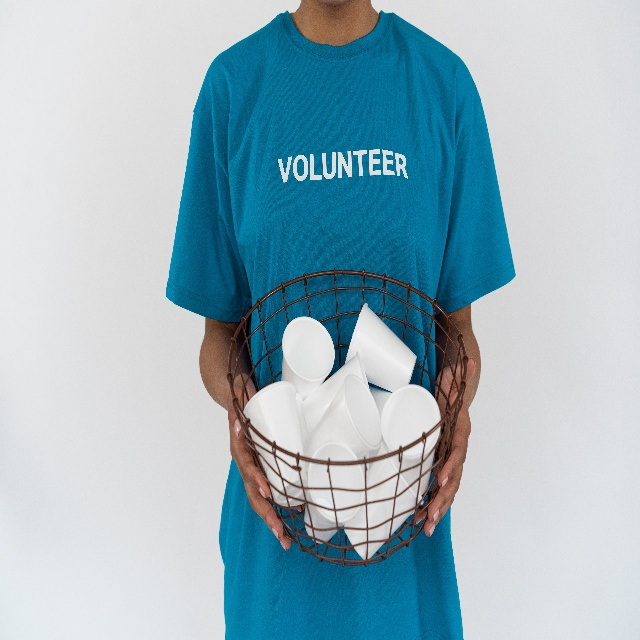Sin_guantes: (227, 370, 291, 551), (414, 356, 476, 539)
